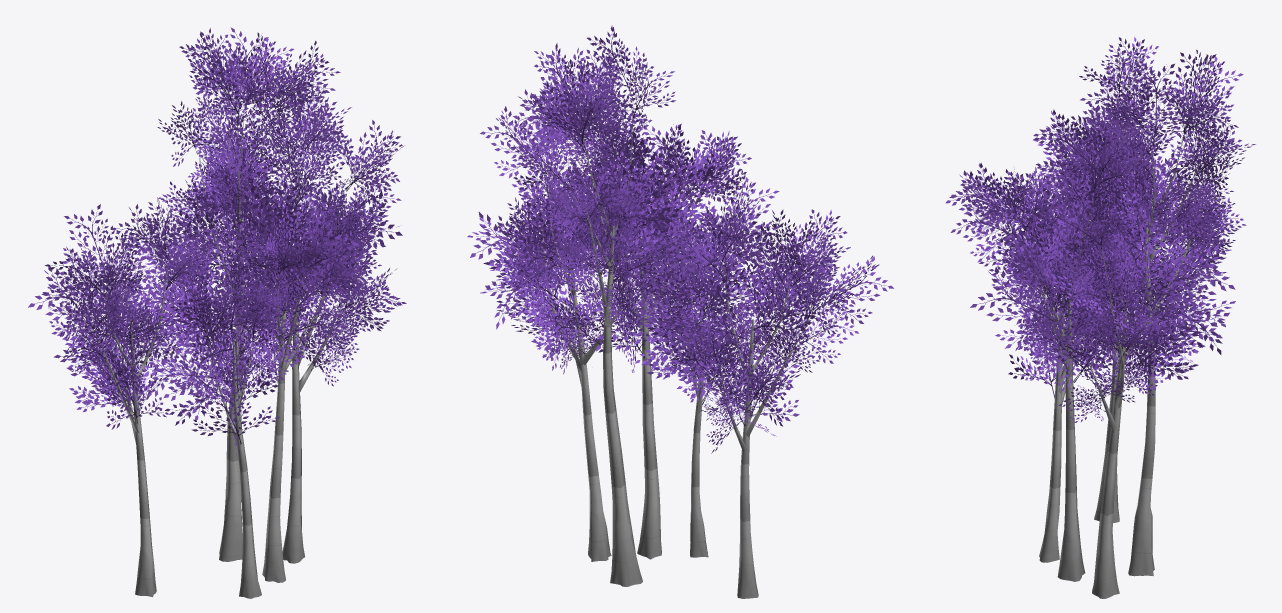
File: Tree2.fbx
The picture shows the model from 3 angles, left to right: view 1: azimuth 30°, elevation 25°; view 2: azimuth 150°, elevation 25°; view 3: azimuth 270°, elevation 25°; orthographic projection. The views are drawn at different scales.
Visible parts, largest first — view 1: tree16; view 2: tree16; view 3: tree16.
Part boxes in pixels (x1,y1,x2,y2): tree16: [28, 27, 406, 598]; tree16: [467, 25, 893, 598]; tree16: [945, 37, 1255, 598].
Bounding box in the file's own units: 6.54 × 8.55 × 4.65.
1 material, 1 textured.
